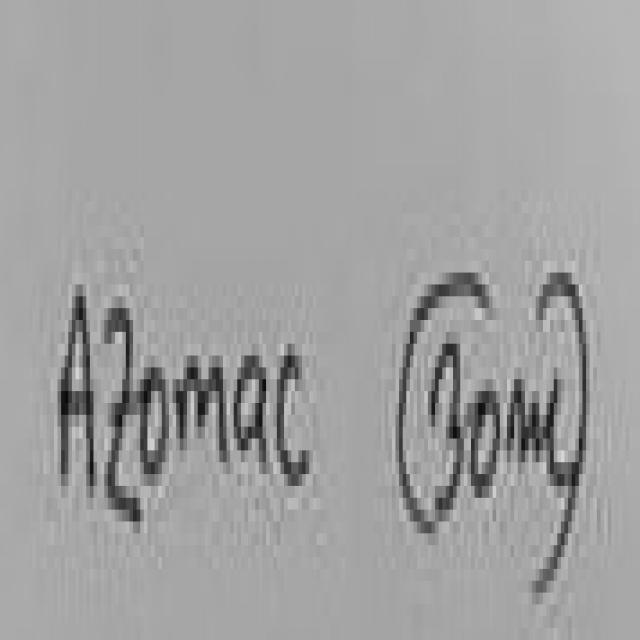0: (468, 354, 503, 511)
3: (424, 334, 468, 524)
A: (48, 263, 102, 520)
a: (230, 331, 274, 492)
c: (274, 331, 312, 503)
g: (546, 360, 578, 510)
m: (168, 320, 232, 484), (506, 345, 548, 492)
o: (137, 326, 170, 486)
z: (100, 274, 140, 554)
